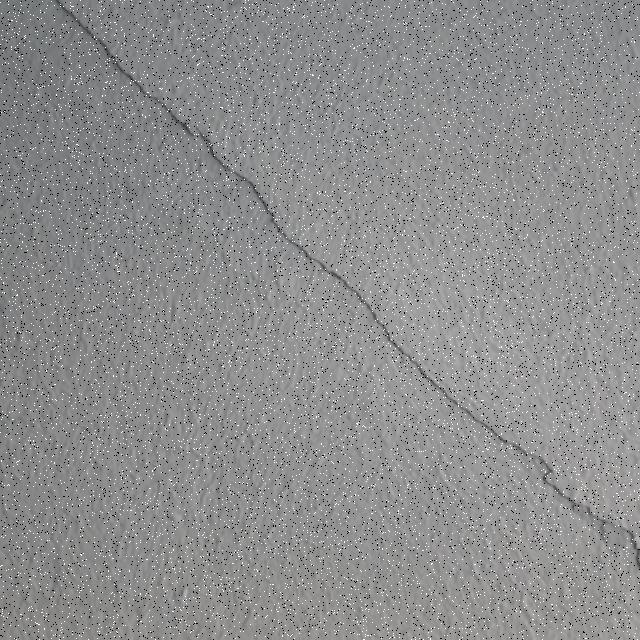minor crack: (10, 292, 131, 444)
moderate crack: (225, 175, 440, 381), (433, 415, 632, 589), (377, 331, 470, 418), (584, 504, 633, 553)
severe crack: (53, 12, 256, 203), (212, 152, 276, 216), (480, 423, 537, 472), (570, 496, 583, 512)
